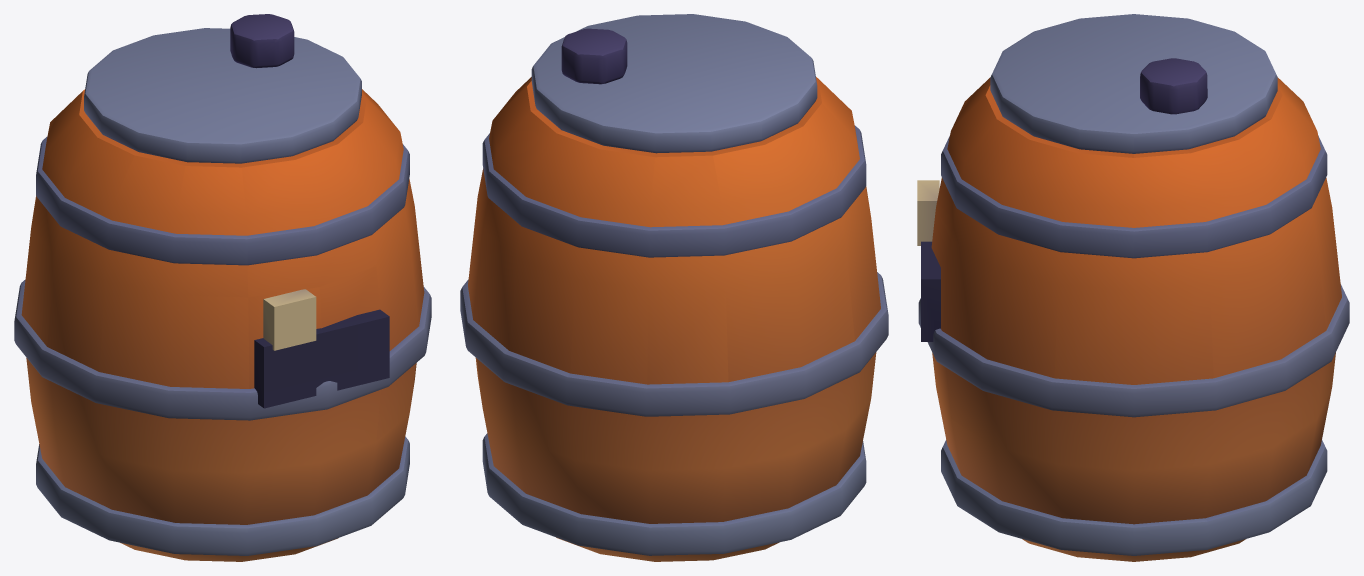
File: hub_prop_barrel.glb
3 renders of one model, left to right at view 1: azimuth 30°, elevation 25°; view 2: azimuth 150°, elevation 25°; view 3: azimuth 270°, elevation 25°, orthographic. The views are drawn at different scales.
Visible parts, largest first — view 1: hub_prop_barrel; view 2: hub_prop_barrel; view 3: hub_prop_barrel.
Boxes of the visible parts, <box> form: hub_prop_barrel: <box>14,14,431,561</box>; hub_prop_barrel: <box>460,14,888,561</box>; hub_prop_barrel: <box>917,14,1349,561</box>.
Size of the model in its own units: 0.87 by 1.02 by 0.8725.
